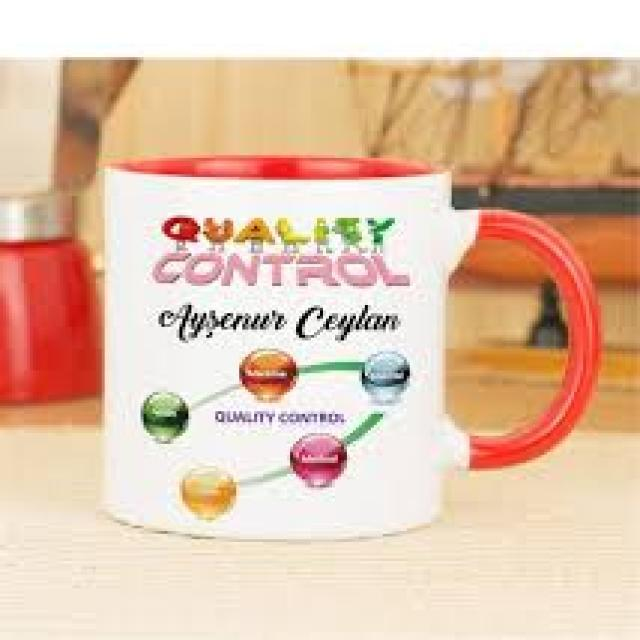taza: (101, 155, 600, 540)
